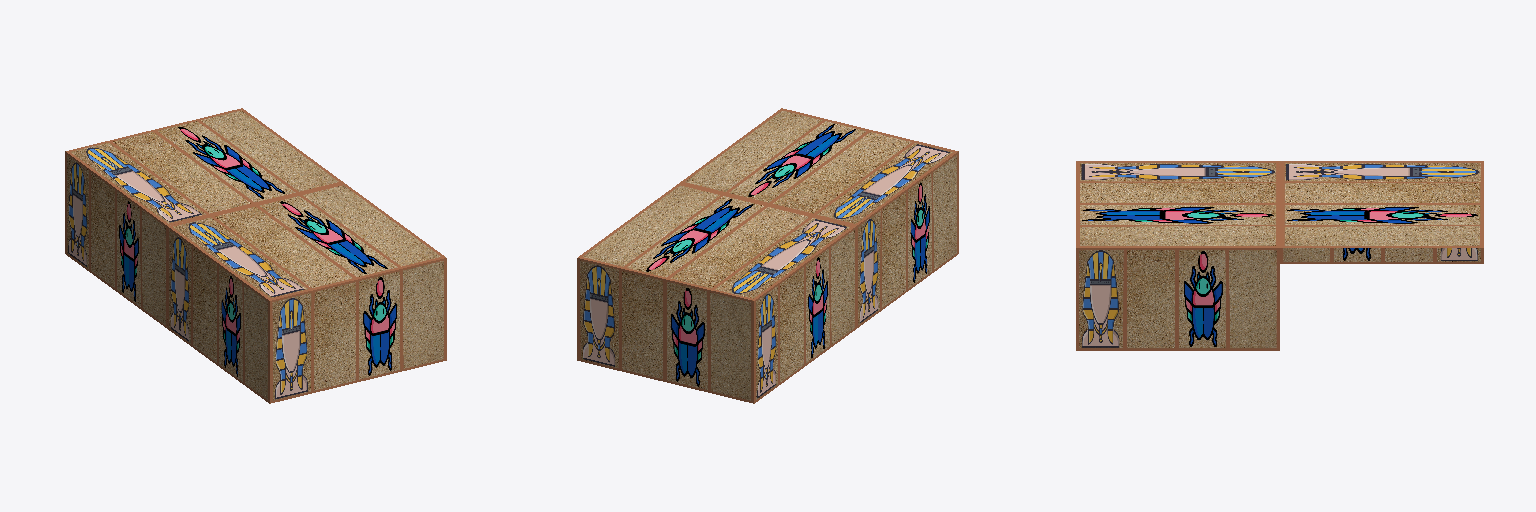
3 renders of one model, left to right at view 1: azimuth 30°, elevation 25°; view 2: azimuth 150°, elevation 25°; view 3: azimuth 270°, elevation 25°, orthographic.
Parts seen in each view (by area): view 1: Box092; view 2: Box092; view 3: Box092.
Part boxes in pixels (x1,y1,x2,y2): Box092: (65, 108, 446, 403); Box092: (577, 108, 958, 403); Box092: (1076, 161, 1483, 350).
Bounding box in the file's own units: 4.5 × 2.5 × 9.
1 materials, 1 textured.